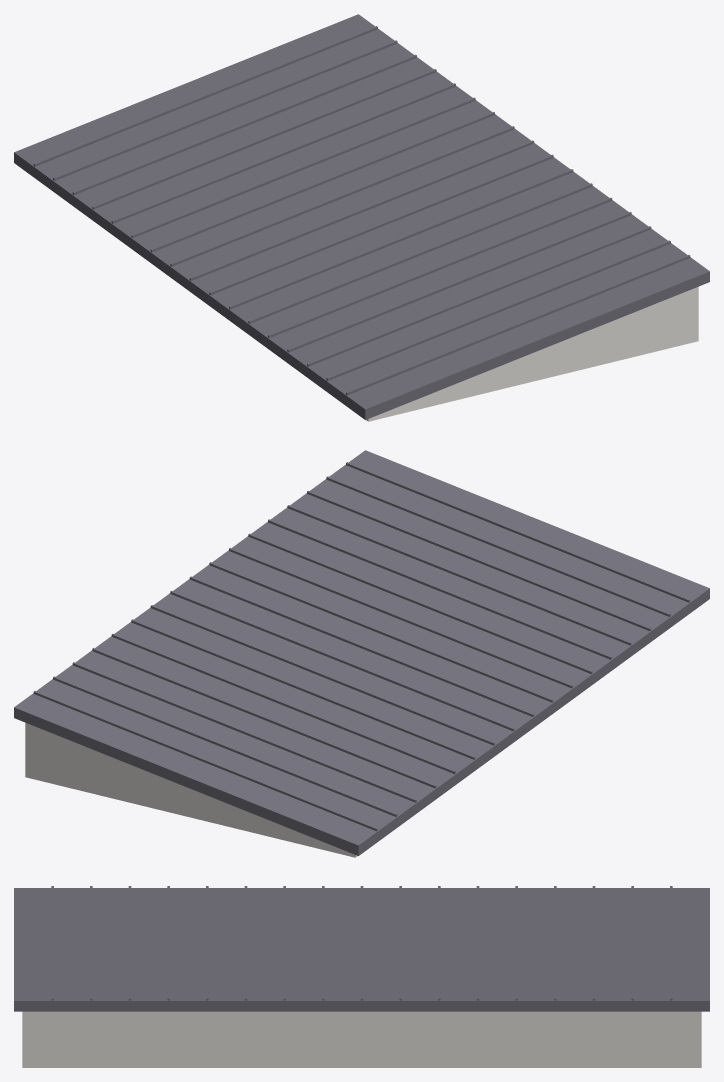
The model's file is SM_Roof_NarrowShedLeft_White_455_01.gltf.
3 renders of one model, top to bottom at view 1: azimuth 30°, elevation 25°; view 2: azimuth 150°, elevation 25°; view 3: azimuth 270°, elevation 25°, orthographic.
Visible parts, largest first — view 1: SM_Roof_NarrowShedLeft_White_455_01; view 2: SM_Roof_NarrowShedLeft_White_455_01; view 3: SM_Roof_NarrowShedLeft_White_455_01.
Boxes of the visible parts, x1,y1,x2,y2 form: SM_Roof_NarrowShedLeft_White_455_01: [14, 14, 709, 421]; SM_Roof_NarrowShedLeft_White_455_01: [14, 450, 709, 857]; SM_Roof_NarrowShedLeft_White_455_01: [14, 886, 709, 1067].
Bounding box in the file's own units: 4.75 × 0.966 × 8.39.
1 material, 1 textured.
